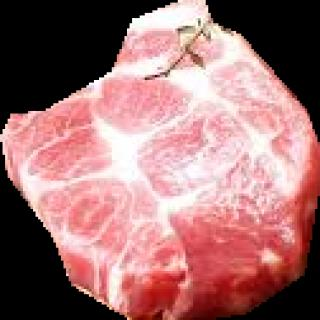pork: (0, 0, 320, 320)
